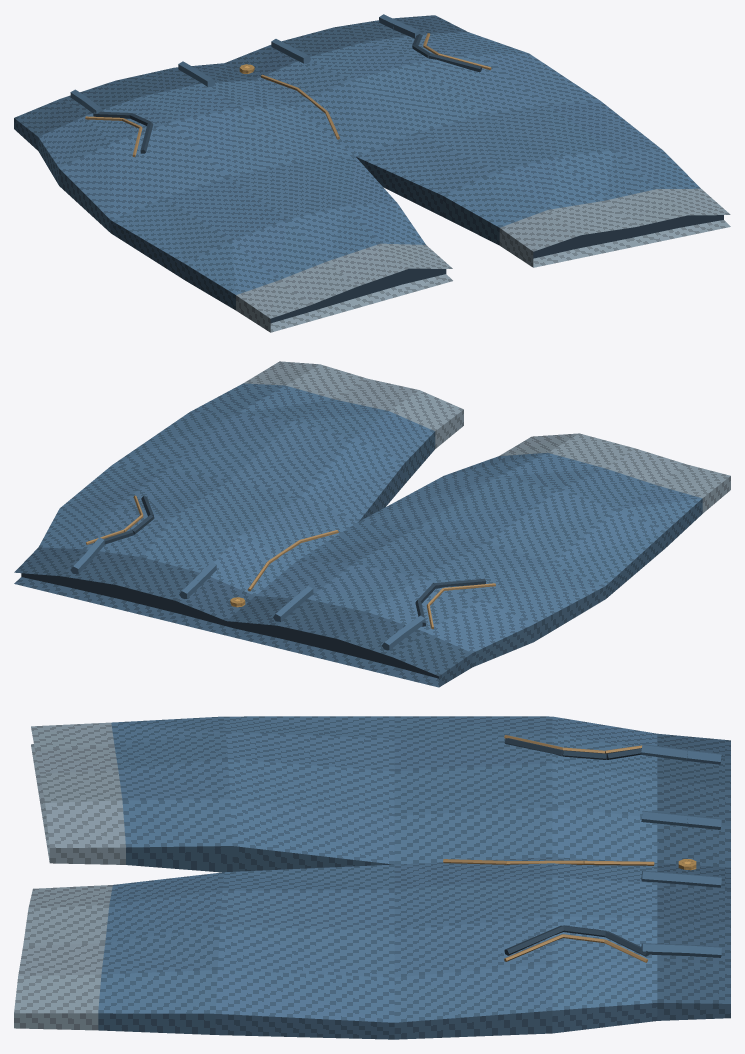
File: shorts_denim.glb
3 renders of one model, top to bottom at view 1: azimuth 30°, elevation 25°; view 2: azimuth 150°, elevation 25°; view 3: azimuth 270°, elevation 25°, orthographic. The views are drawn at different scales.
Visible parts, largest first — view 1: block_sewn shorts with open waist and cuffs; view 2: block_sewn shorts with open waist and cuffs; view 3: block_sewn shorts with open waist and cuffs, block_belt loop 1 (×4).
Part boxes in pixels (x1,y1,x2,y2): block_sewn shorts with open waist and cuffs: (14,15,730,332); block_sewn shorts with open waist and cuffs: (14,361,730,687); block_sewn shorts with open waist and cuffs: (14,716,730,1039); block_belt loop 1 (×4): (641,744,688,955).
Size of the model in its own units: 0.383 by 0.0301 by 0.3786.
Materials: 1 (1 with a texture image).
